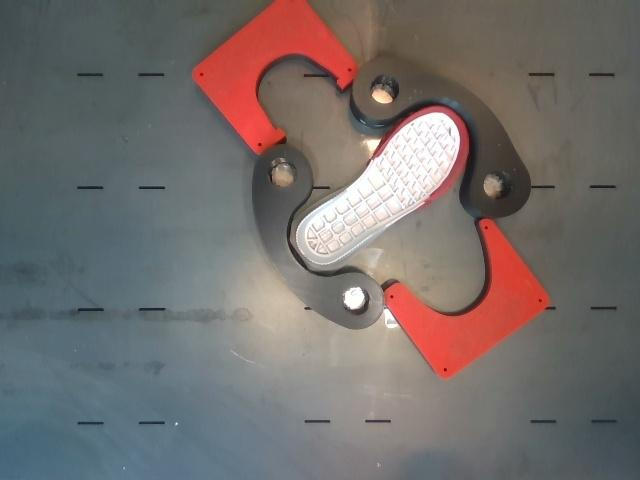shoes: (297, 107, 468, 264)
